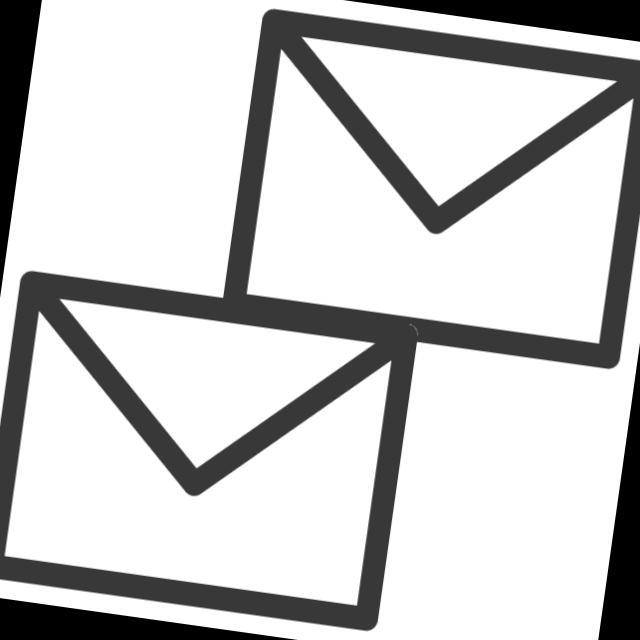letter: (202, 1, 640, 381), (1, 256, 432, 640)
